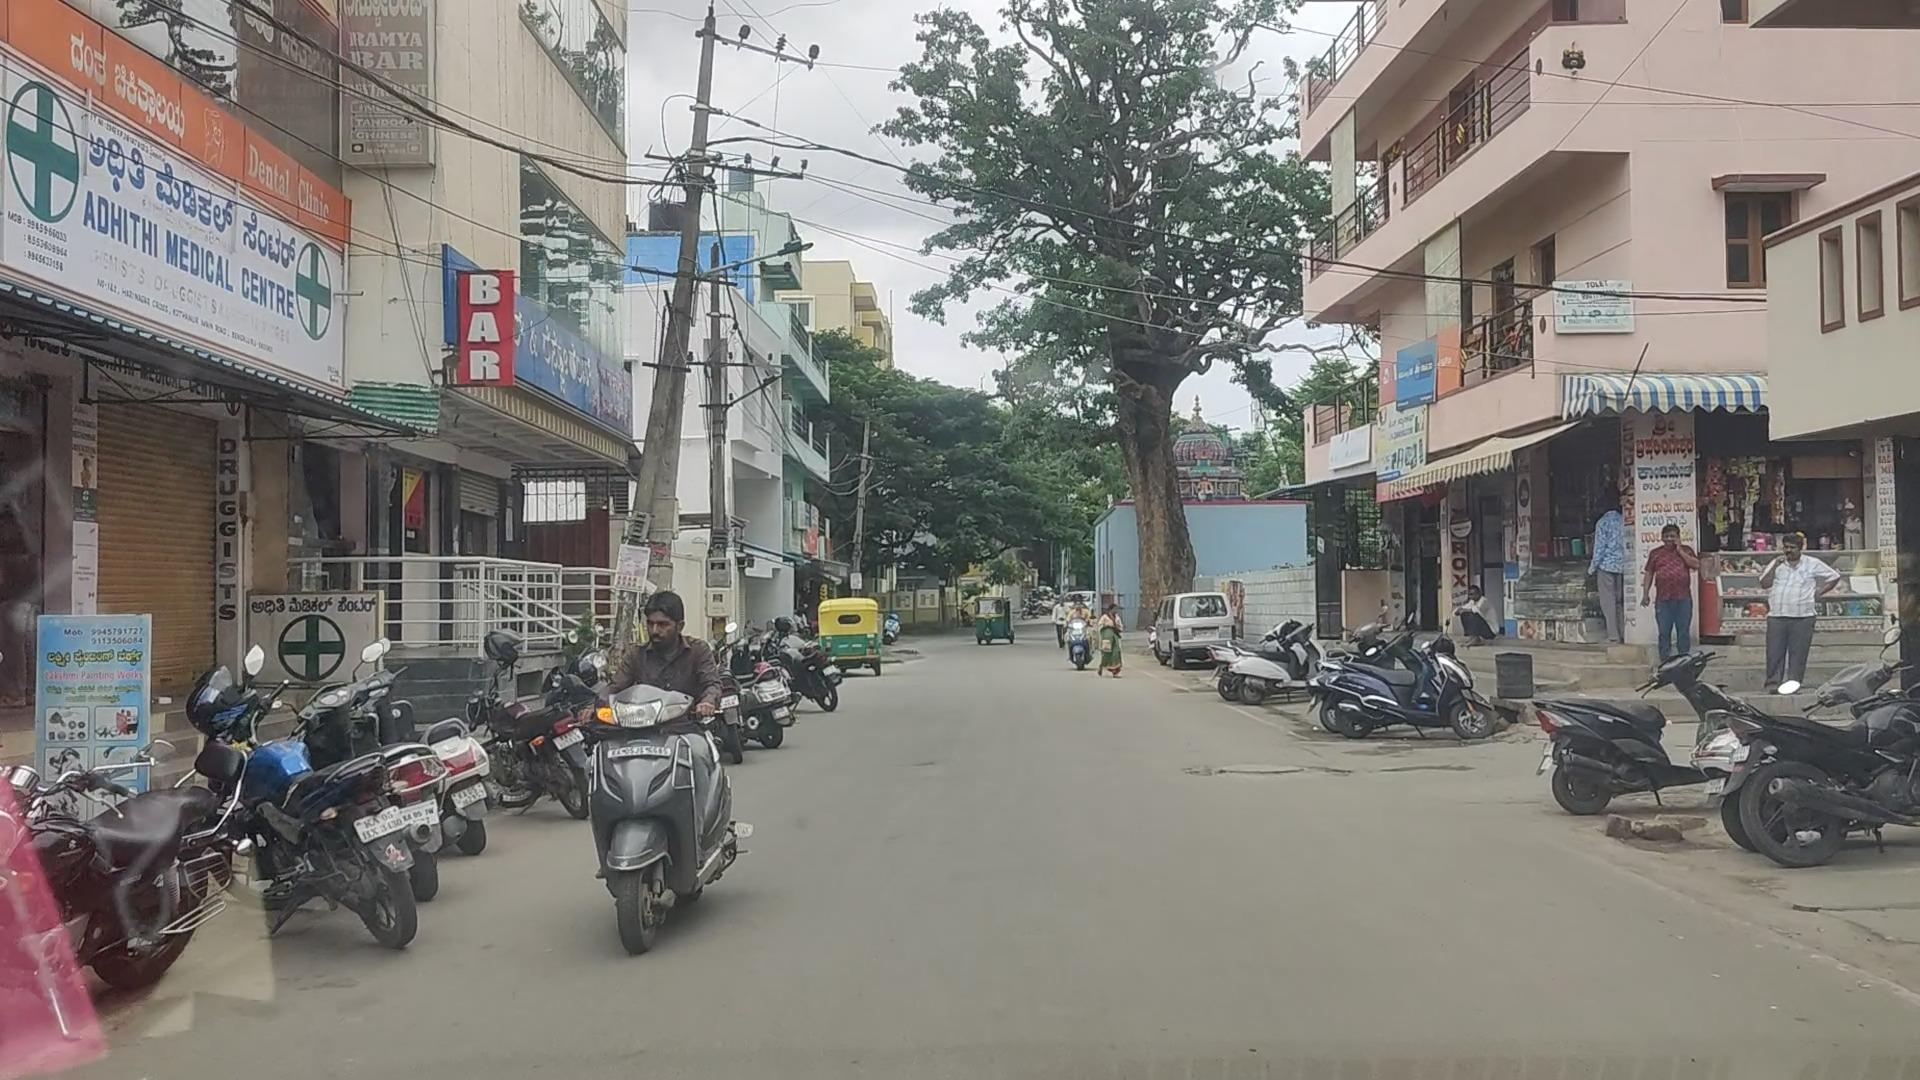LMV: (591, 587, 713, 964)
RoadDamages: (1162, 740, 1329, 786)
